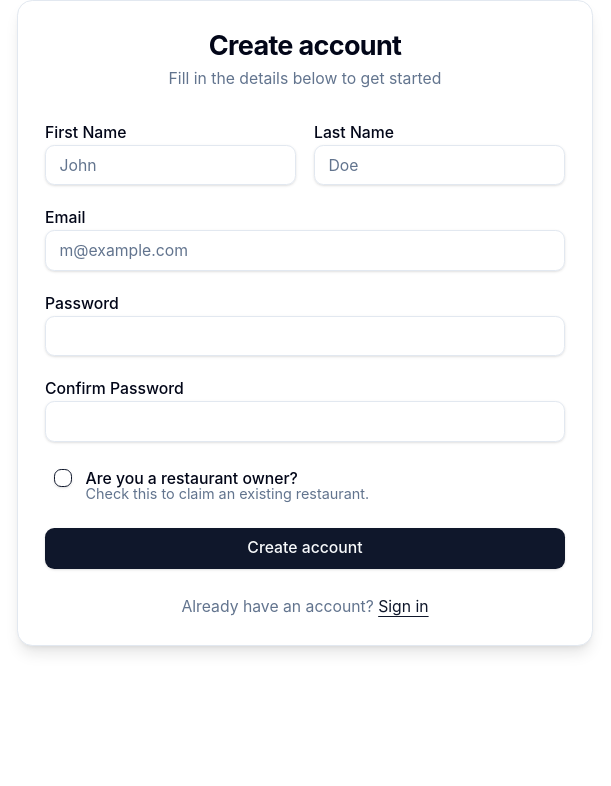
Test: SignupForm validation › shows validation errors when submitted with empty fields
Click the button "Create account" at (305, 549), box left=45, top=528, right=565, bottom=569
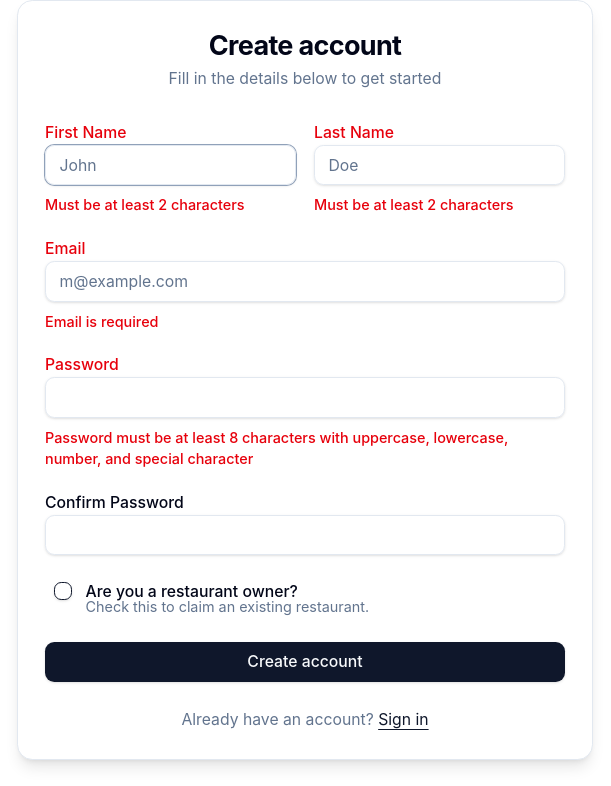
Now the text "Must be at least 2 characters" is shown 2 times, box left=45, top=196, right=245, bottom=214; left=314, top=196, right=514, bottom=214
Now the text "Email is required" is shown, box left=45, top=313, right=158, bottom=330
Now the text "Password must be at least 8 characters with uppercase, lowercase, number, and special character" is shown, box left=45, top=429, right=508, bottom=467
